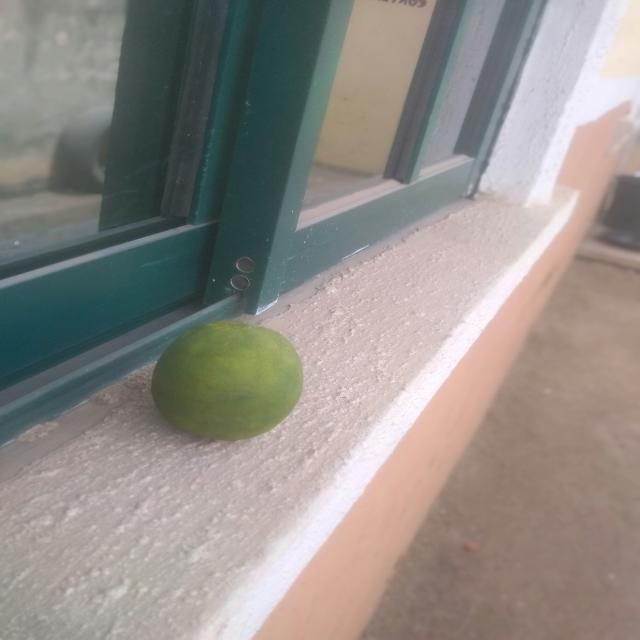agrume: (120, 278, 335, 451)
